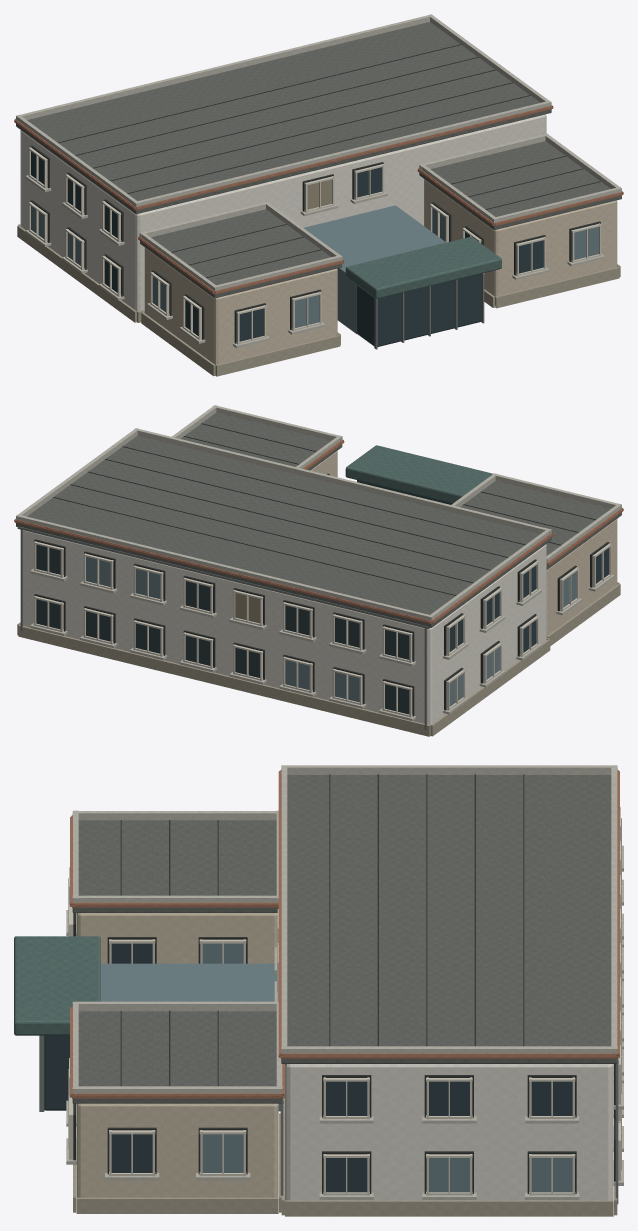
File: EDU_SCHOOL_3x3_001.glb
3 views of the same model, one above another, from view 1: azimuth 30°, elevation 25°; view 2: azimuth 150°, elevation 25°; view 3: azimuth 270°, elevation 25° (orthographic). The views are drawn at different scales.
Parts seen in each view (by area): view 1: EDU_SCHOOL_3x3_001_Visual; view 2: EDU_SCHOOL_3x3_001_Visual; view 3: EDU_SCHOOL_3x3_001_Visual.
Part boxes in pixels (left/top/right/bottom): EDU_SCHOOL_3x3_001_Visual: left=14, top=14, right=623, bottom=376; EDU_SCHOOL_3x3_001_Visual: left=14, top=405, right=623, bottom=736; EDU_SCHOOL_3x3_001_Visual: left=14, top=765, right=623, bottom=1216.
Size of what is drawn, in the model's own units: 5.36 by 1.45 by 4.78.
13 materials, 7 textured.
